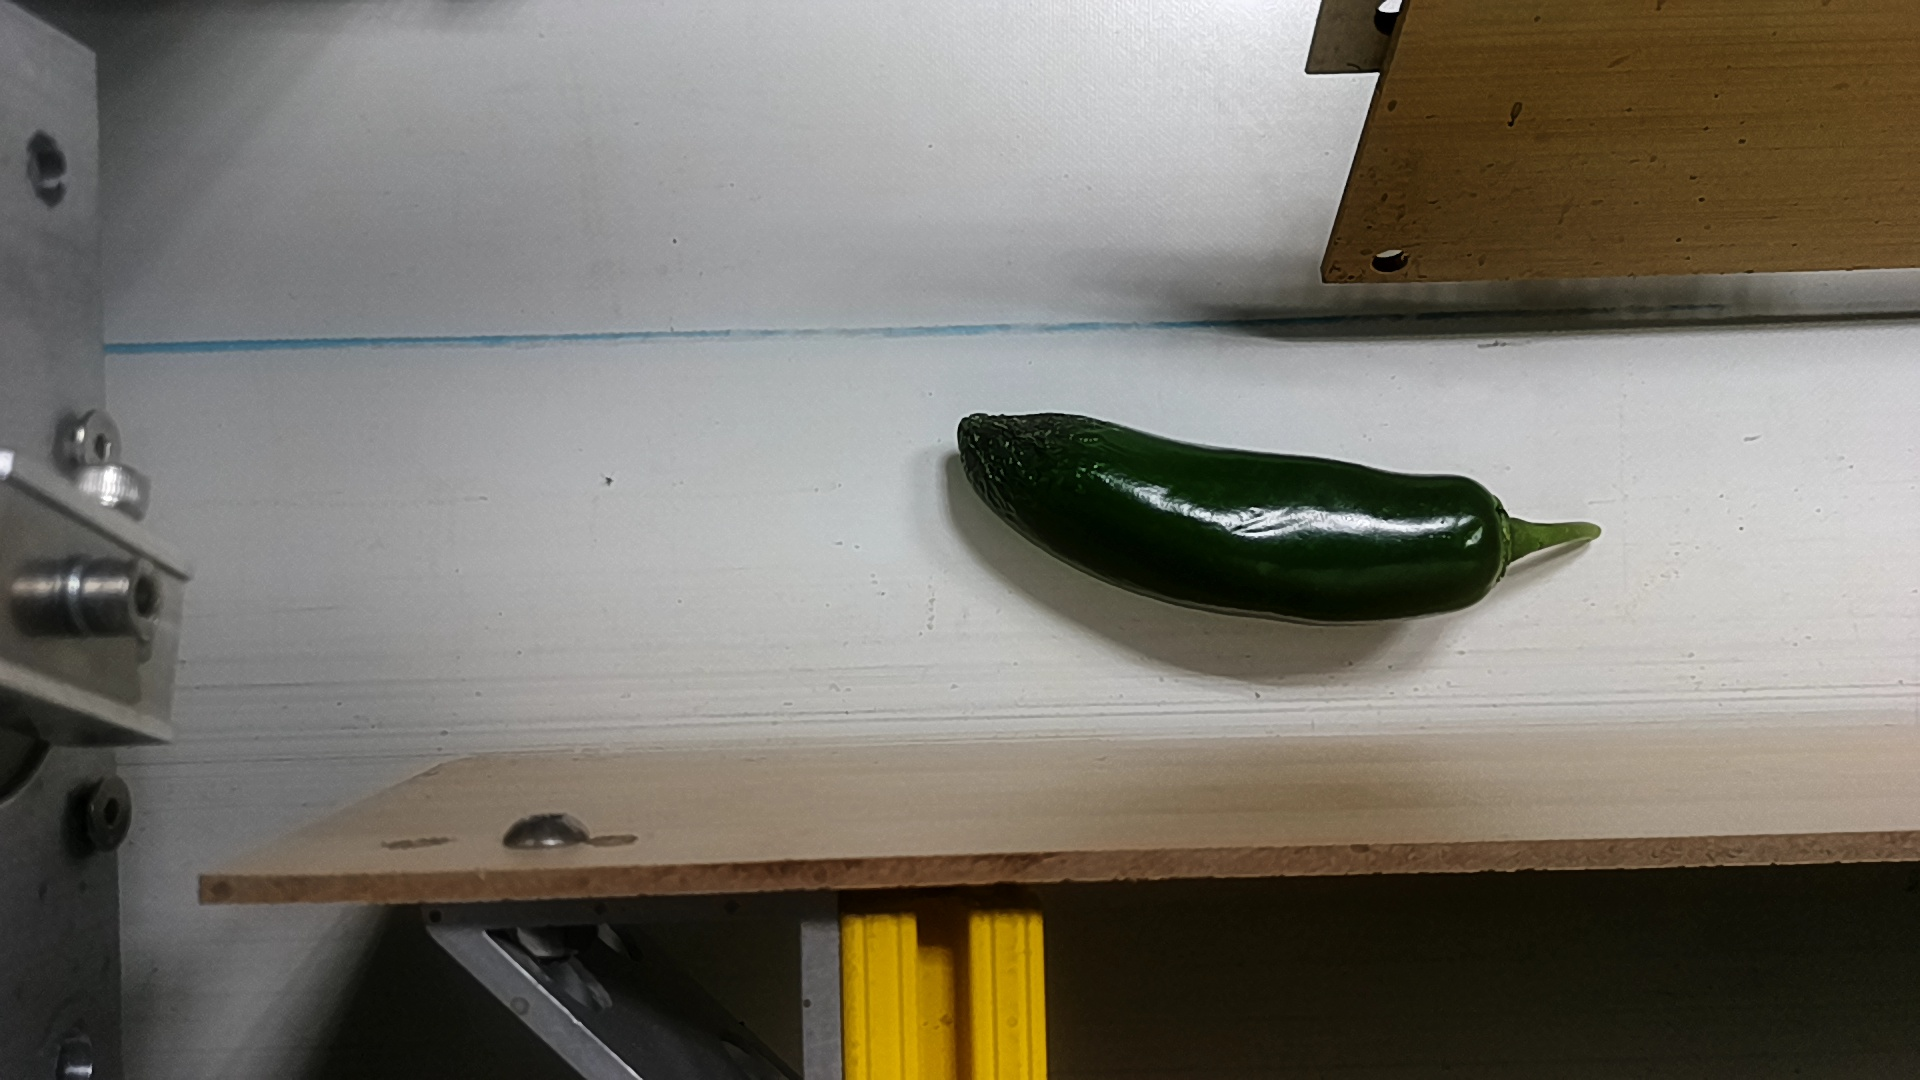Cut Point: (1443, 464, 1538, 611)
